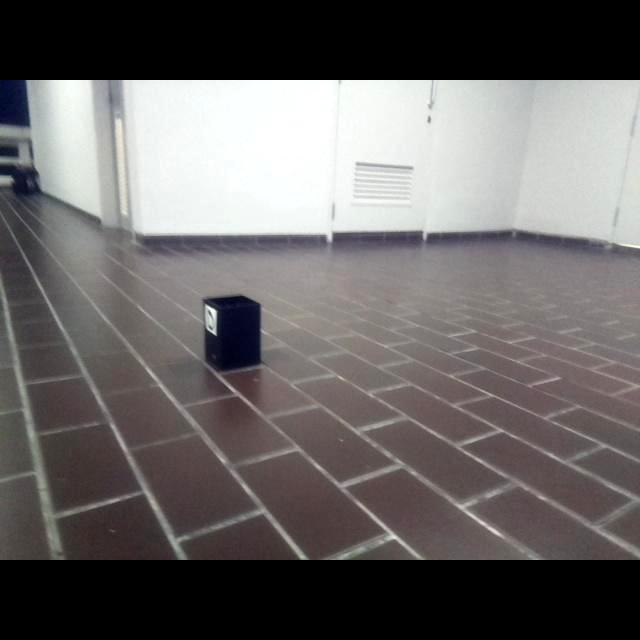D: (204, 306, 216, 334)
